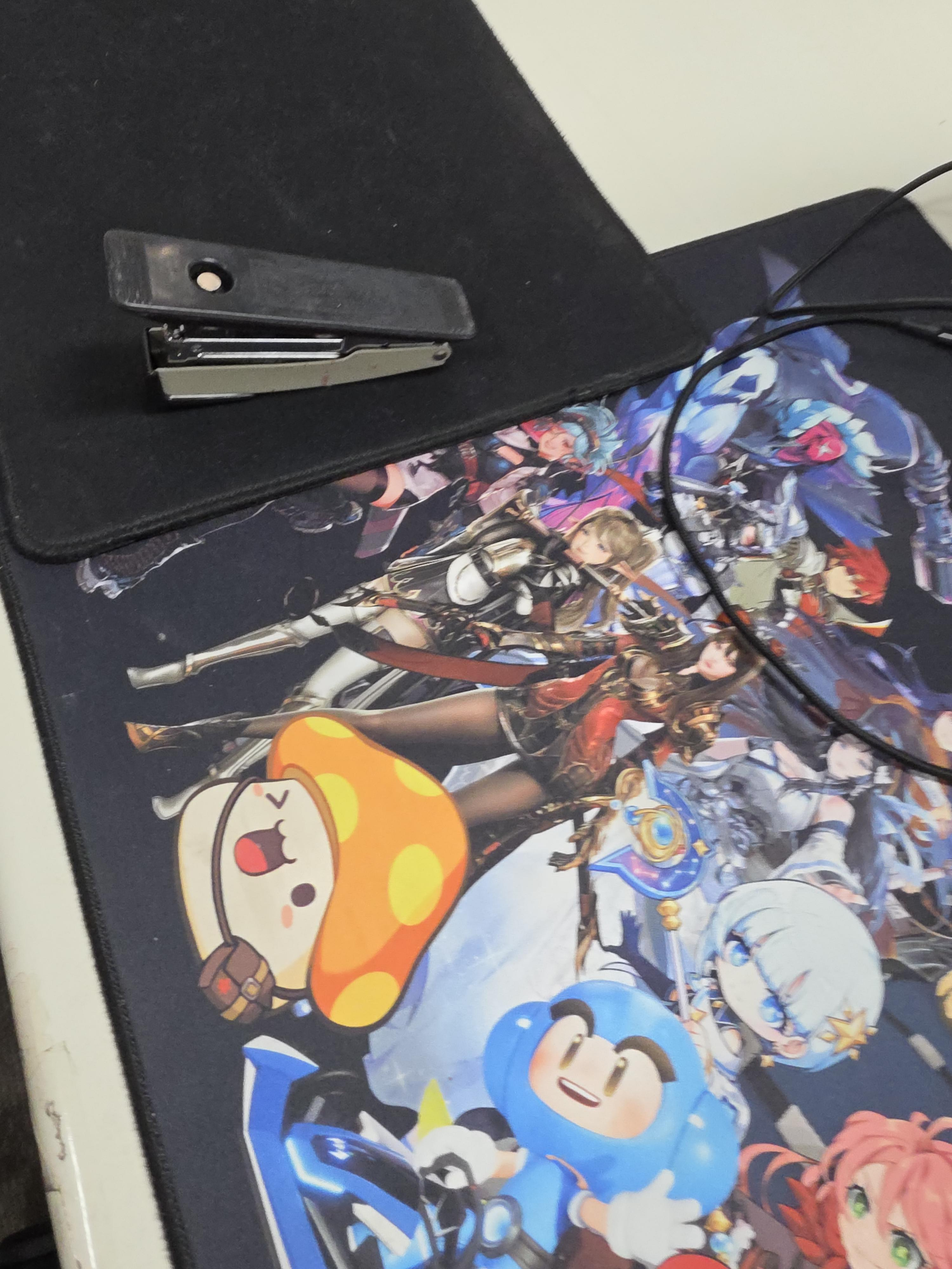stapler: (102, 229, 477, 402)
